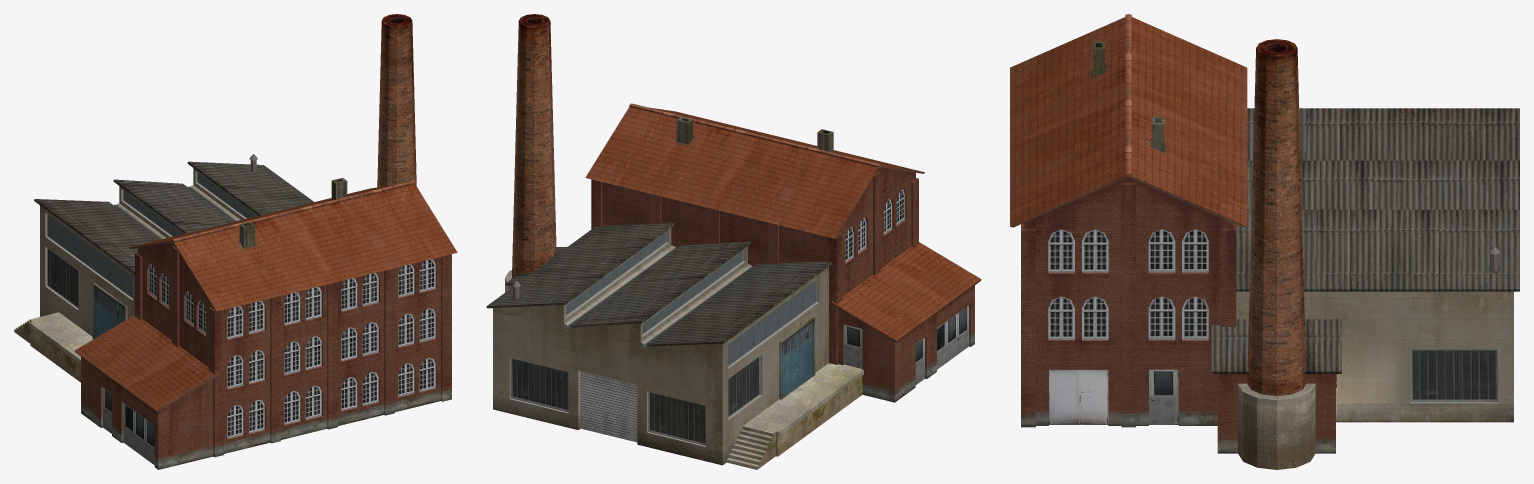
Rendered from factory_small.obj.
3 renders of one model, left to right at view 1: azimuth 30°, elevation 25°; view 2: azimuth 150°, elevation 25°; view 3: azimuth 270°, elevation 25°, orthographic. The views are drawn at different scales.
Visible parts, largest first — view 1: small_factory; view 2: small_factory; view 3: small_factory.
Boxes of the visible parts, x1=… form: small_factory: x1=14, y1=14, x2=457, y2=469; small_factory: x1=486, y1=14, x2=981, y2=469; small_factory: x1=1010, y1=14, x2=1519, y2=469.
Size of the model in its own units: 18.36 by 14.57 by 16.59.
1 material, 1 textured.
